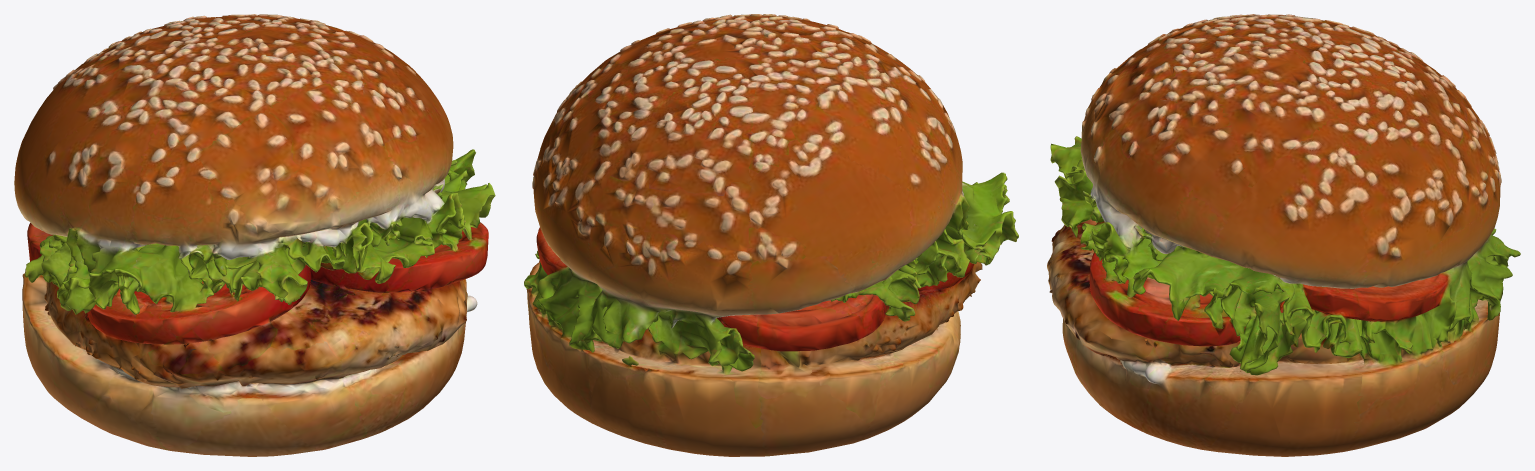
File: chicken-burger.glb
3 views of the same model, side by side, from view 1: azimuth 30°, elevation 25°; view 2: azimuth 150°, elevation 25°; view 3: azimuth 270°, elevation 25° (orthographic). The views are drawn at different scales.
Parts seen in each view (by area): view 1: mesh_node; view 2: mesh_node; view 3: mesh_node.
Part boxes in pixels (x1,y1,x2,y2): mesh_node: (14, 14, 495, 456); mesh_node: (524, 14, 1018, 456); mesh_node: (1047, 14, 1520, 456).
Bounding box in the file's own units: 1.9 × 1.39 × 1.77.
Materials: 1 (1 with a texture image).
